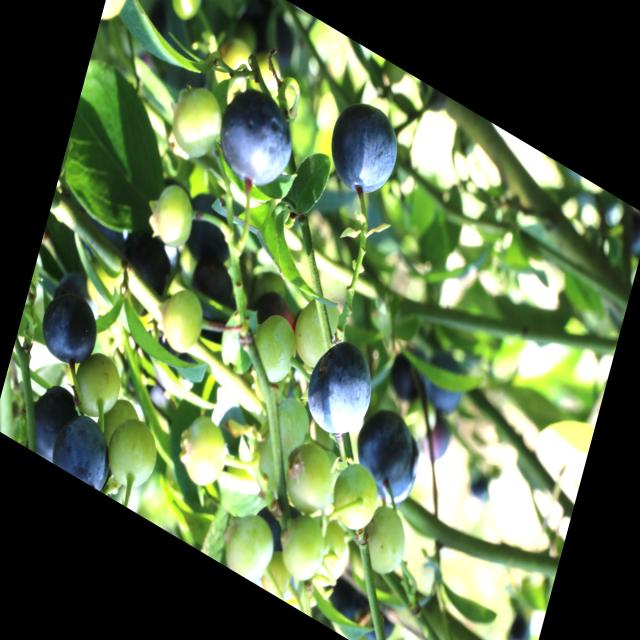blueberry: (208, 70, 304, 205), (297, 321, 384, 453), (319, 87, 407, 212), (349, 397, 431, 518), (50, 401, 123, 495), (34, 276, 103, 368), (22, 371, 78, 466)
blueberry-unripe: (100, 405, 168, 507), (216, 492, 282, 589), (166, 77, 230, 173), (150, 271, 213, 368), (288, 282, 351, 378), (278, 432, 341, 524), (356, 498, 417, 590), (174, 406, 236, 496), (326, 456, 387, 547), (68, 343, 127, 434), (245, 304, 302, 393), (272, 508, 331, 593), (147, 173, 201, 254), (308, 516, 357, 602), (264, 381, 316, 460), (91, 385, 142, 465), (163, 0, 210, 32), (99, 0, 139, 34)
